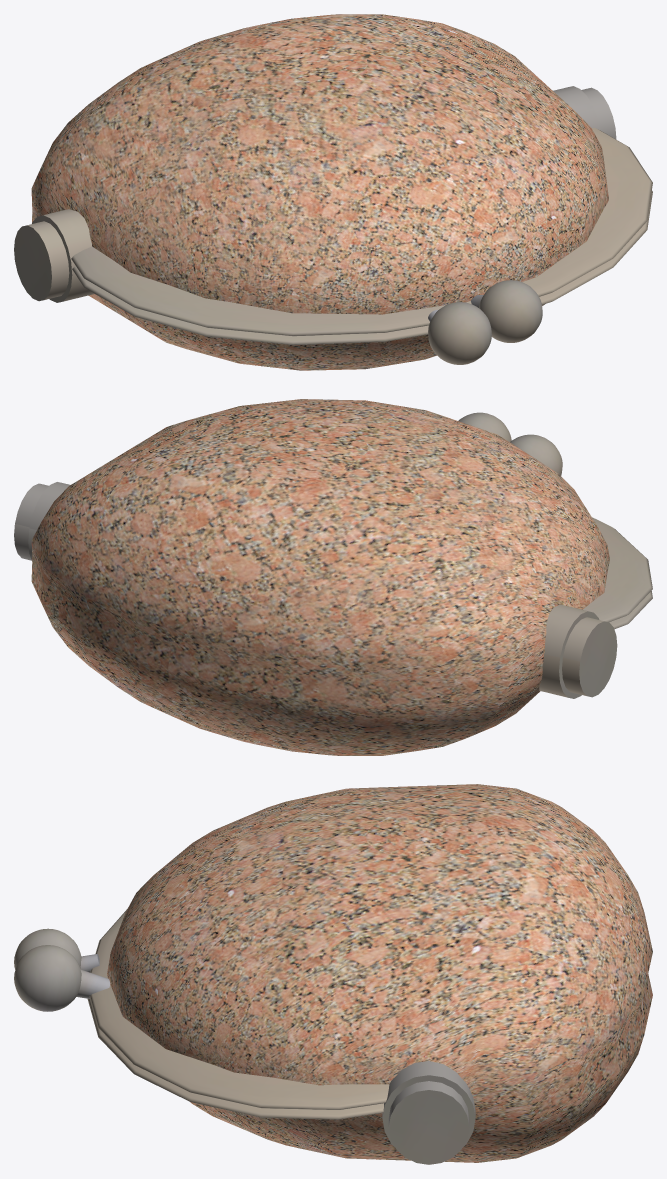
The model's file is Purse final.fbx.
The picture shows the model from 3 angles, top to bottom: view 1: azimuth 30°, elevation 25°; view 2: azimuth 150°, elevation 25°; view 3: azimuth 270°, elevation 25°; orthographic projection. The views are drawn at different scales.
Visible parts, largest first — view 1: polySurface1; view 2: polySurface1; view 3: polySurface1.
Boxes of the visible parts, x1=… form: polySurface1: x1=14, y1=14, x2=652, y2=370; polySurface1: x1=14, y1=399, x2=652, y2=755; polySurface1: x1=14, y1=784, x2=652, y2=1164.
Bounding box in the file's own units: 222 × 98.05 × 205.
